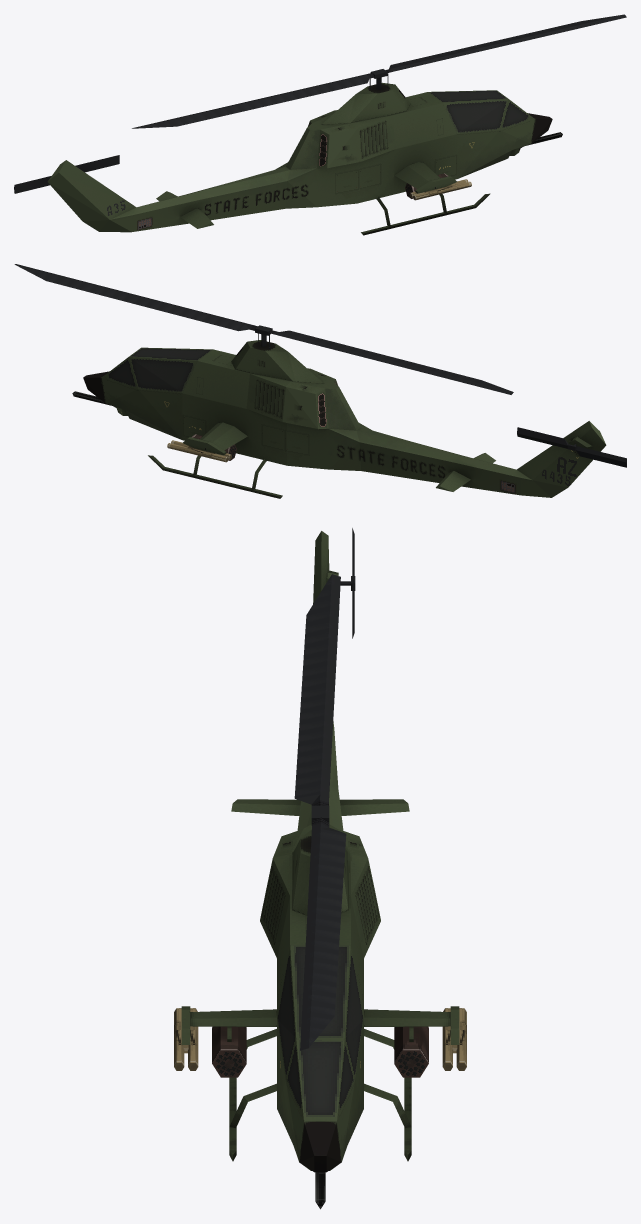
Rendered from army_ah.gltf.
3 renders of one model, top to bottom at view 1: azimuth 30°, elevation 25°; view 2: azimuth 150°, elevation 25°; view 3: azimuth 270°, elevation 25°, orthographic. The views are drawn at different scales.
Visible parts, largest first — view 1: body, main_rotor, tail_rotor; view 2: body, main_rotor, tail_rotor; view 3: body, main_rotor.
Part boxes in pixels (x1=…): body: x1=47, y1=82, x2=562, y2=235; main_rotor: x1=132, y1=14, x2=626, y2=128; tail_rotor: x1=14, y1=155, x2=119, y2=193; body: x1=72, y1=340, x2=606, y2=498; main_rotor: x1=14, y1=264, x2=513, y2=394; tail_rotor: x1=517, y1=427, x2=626, y2=467; body: x1=174, y1=531, x2=466, y2=1209; main_rotor: x1=294, y1=574, x2=346, y2=1050.
Size of the model in its own units: 15.97 by 3.53 by 3.38.
Materials: 2 (2 with a texture image).
